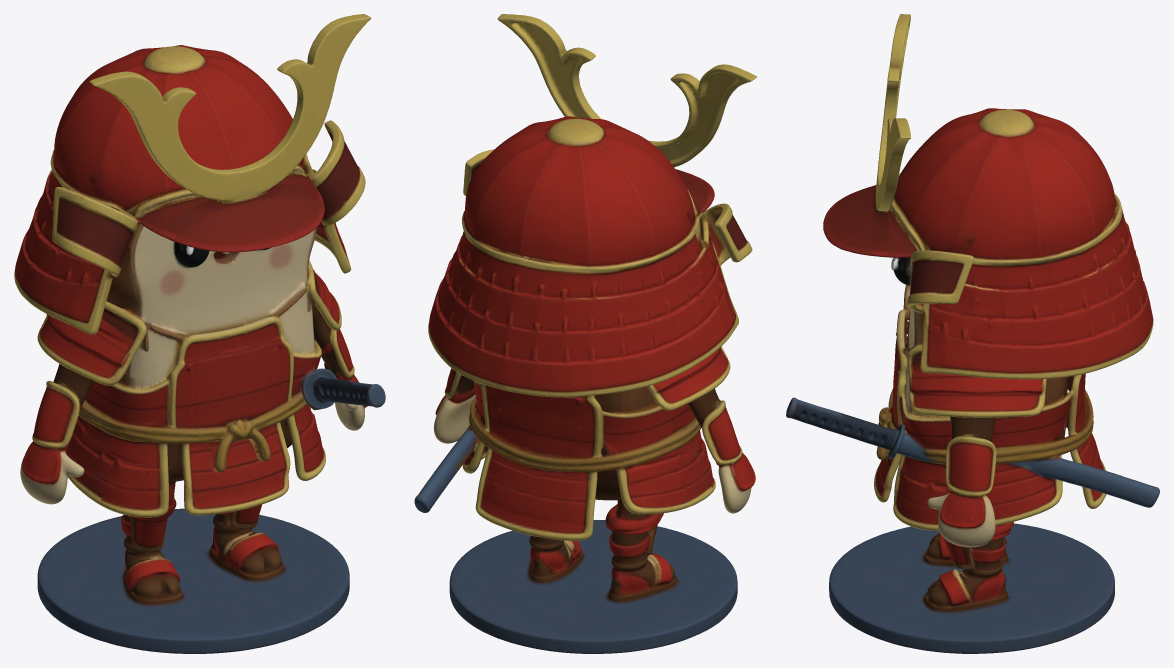
Rendered from crimson-samurai.glb.
3 renders of one model, left to right at view 1: azimuth 30°, elevation 25°; view 2: azimuth 150°, elevation 25°; view 3: azimuth 270°, elevation 25°, orthographic. The views are drawn at different scales.
Size of the model in its own units: 1.17 by 1.9 by 1.23.
Materials: 1 (1 with a texture image).
